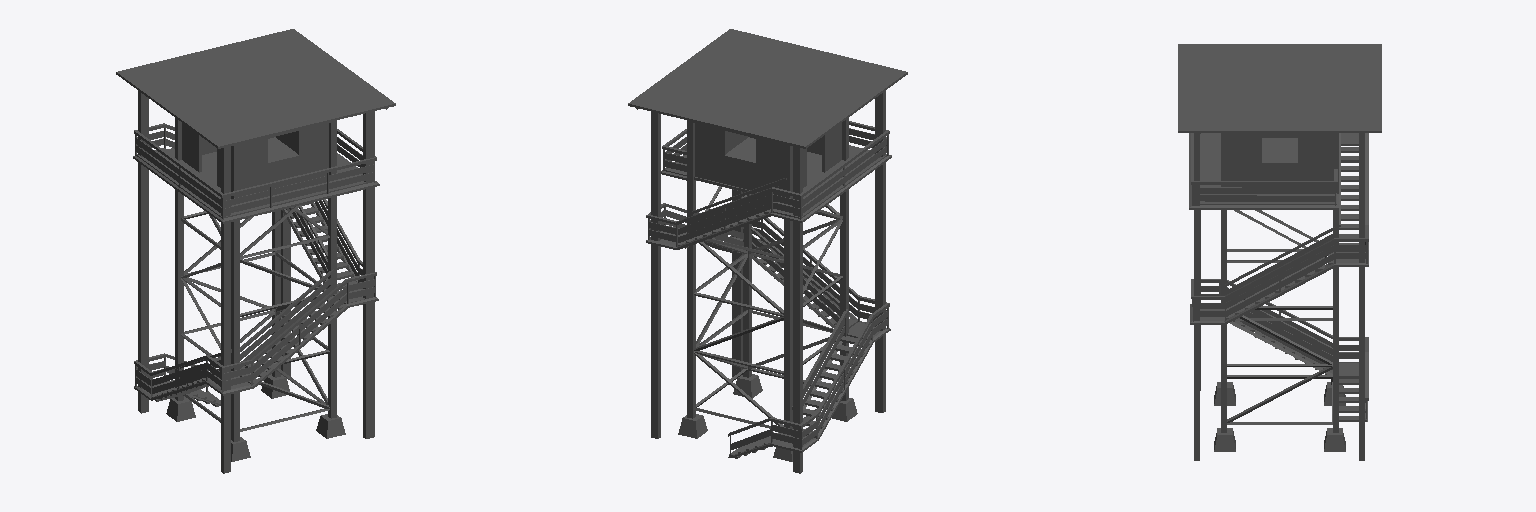
Rendered from Torre.obj.
3 renders of one model, left to right at view 1: azimuth 30°, elevation 25°; view 2: azimuth 150°, elevation 25°; view 3: azimuth 270°, elevation 25°, orthographic.
Parts seen in each view (by area): view 1: watchtowerHigh_watchtower; view 2: watchtowerHigh_watchtower; view 3: watchtowerHigh_watchtower.
Part boxes in pixels (bbox=[...]): watchtowerHigh_watchtower: bbox=[116, 29, 395, 473]; watchtowerHigh_watchtower: bbox=[628, 29, 907, 473]; watchtowerHigh_watchtower: bbox=[1178, 44, 1381, 460].
Bounding box in the file's own units: 4.22 × 7.65 × 4.22.